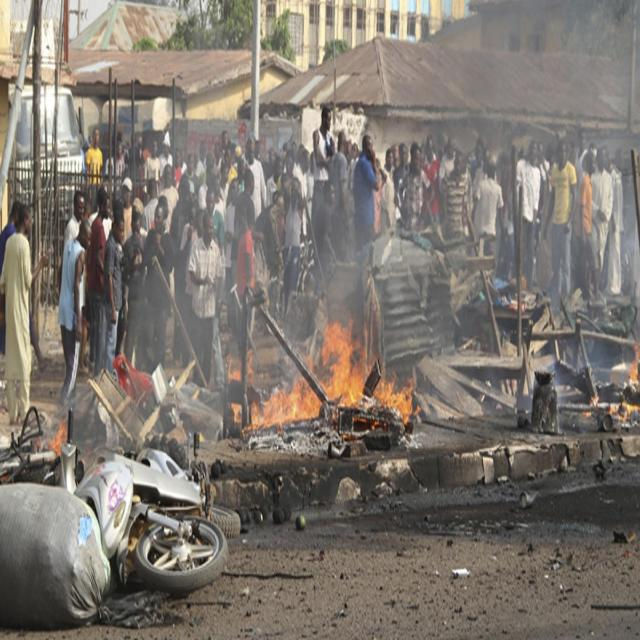fire: (325, 323, 362, 409), (250, 388, 320, 432), (376, 376, 413, 422)
